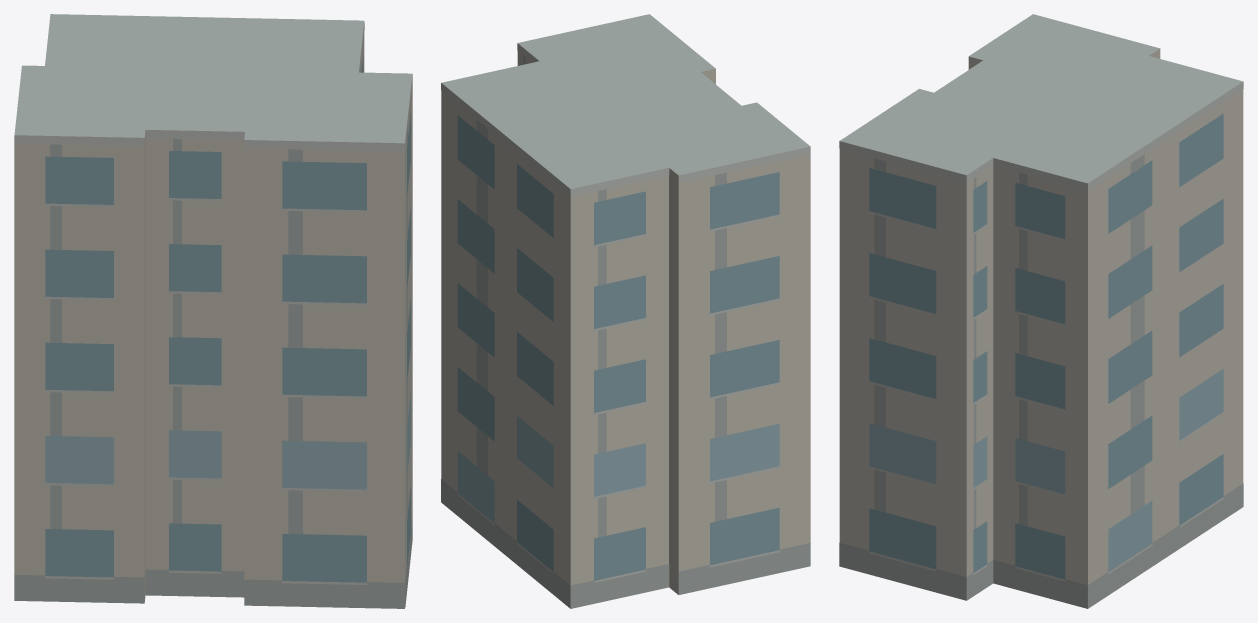
Rendered from survey-upis-32542322.glb.
3 views of the same model, side by side, from view 1: azimuth 30°, elevation 25°; view 2: azimuth 150°, elevation 25°; view 3: azimuth 270°, elevation 25° (orthographic). The views are drawn at different scales.
Parts seen in each view (by area): view 1: survey-upis-32542322.tmp; view 2: survey-upis-32542322.tmp; view 3: survey-upis-32542322.tmp.
Part boxes in pixels (x1,y1,x2,y2): survey-upis-32542322.tmp: [14, 14, 412, 608]; survey-upis-32542322.tmp: [441, 14, 810, 608]; survey-upis-32542322.tmp: [839, 14, 1243, 608].
Size of the model in its own units: 11.45 by 13.4 by 11.54.
